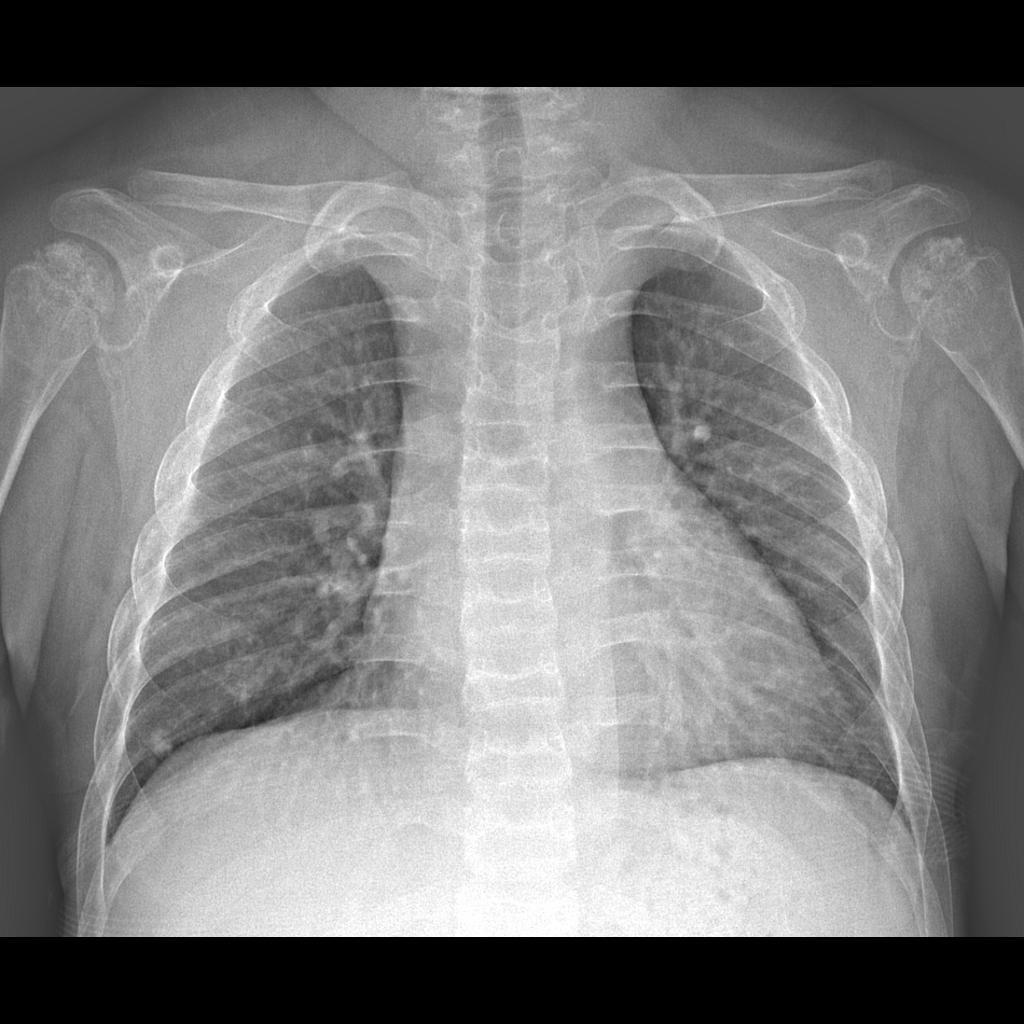Nodule: (142, 721, 176, 766)
